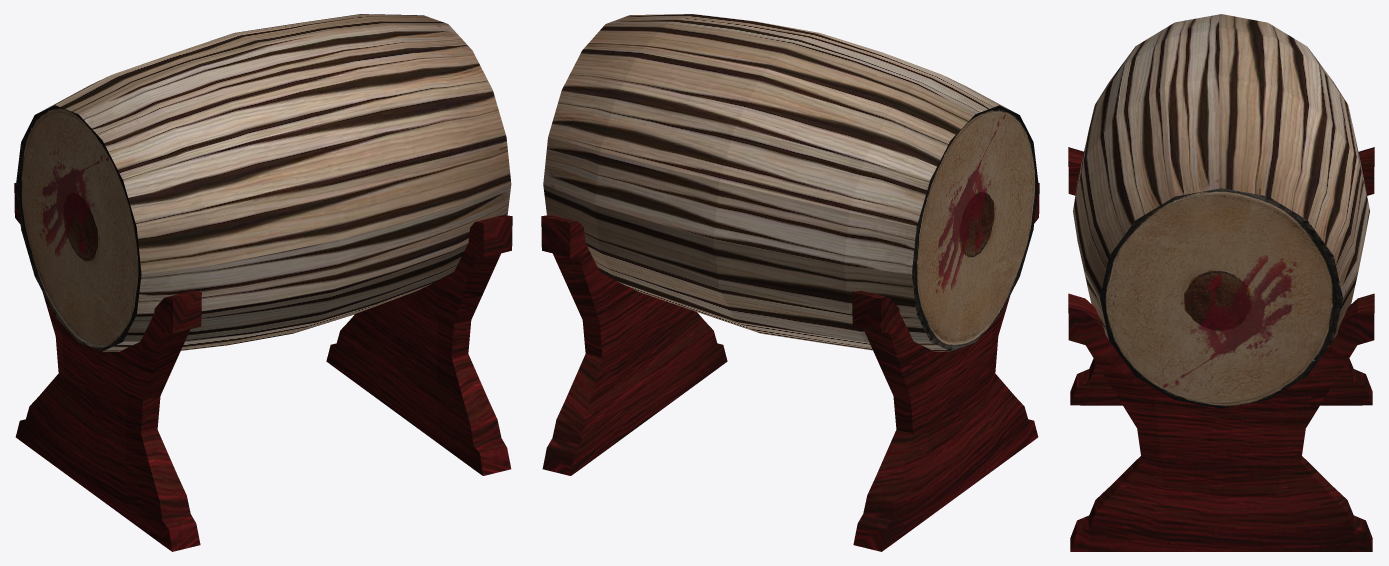
The model's file is Tapon.fbx.
The picture shows the model from 3 angles, left to right: view 1: azimuth 30°, elevation 25°; view 2: azimuth 150°, elevation 25°; view 3: azimuth 270°, elevation 25°; orthographic projection. The views are drawn at different scales.
Parts seen in each view (by area): view 1: _Tapon.001; view 2: _Tapon.001; view 3: _Tapon.001.
Boxes of the visible parts, x1,y1,x2,y2 form: _Tapon.001: (14,14,512,551); _Tapon.001: (541,14,1039,551); _Tapon.001: (1068,14,1374,551).
Size of the model in its own units: 294 by 311 by 218.
Materials: 1 (1 with a texture image).
